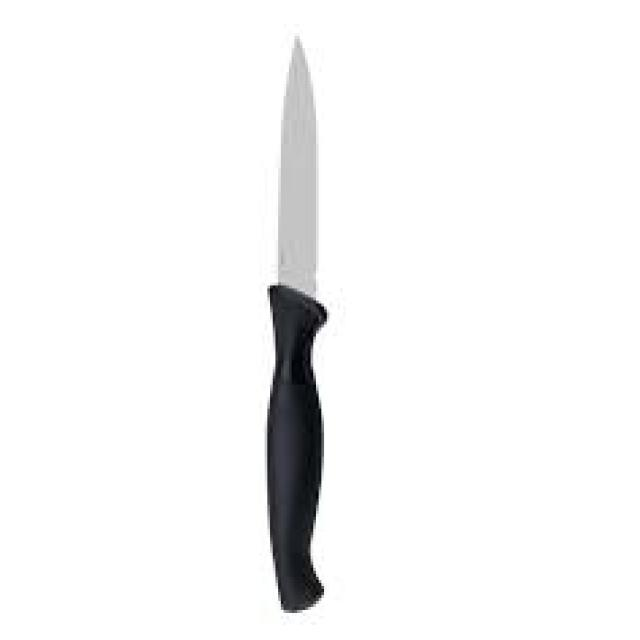Knife: (264, 30, 326, 610)
